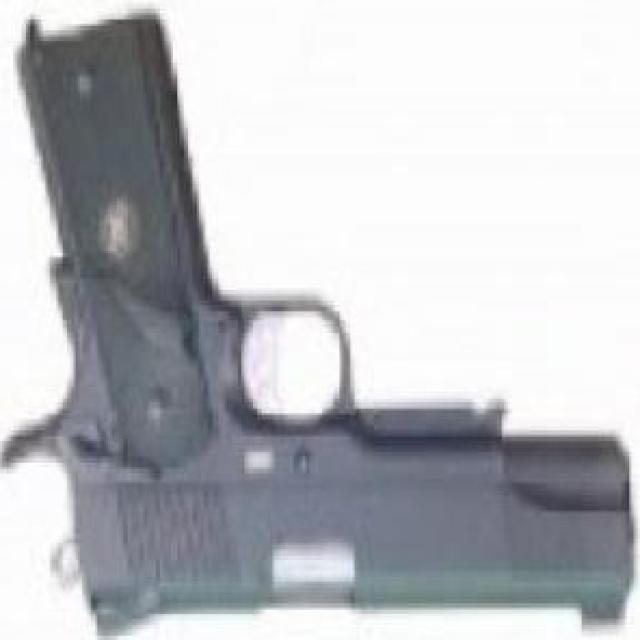pistol: (15, 19, 631, 636)
